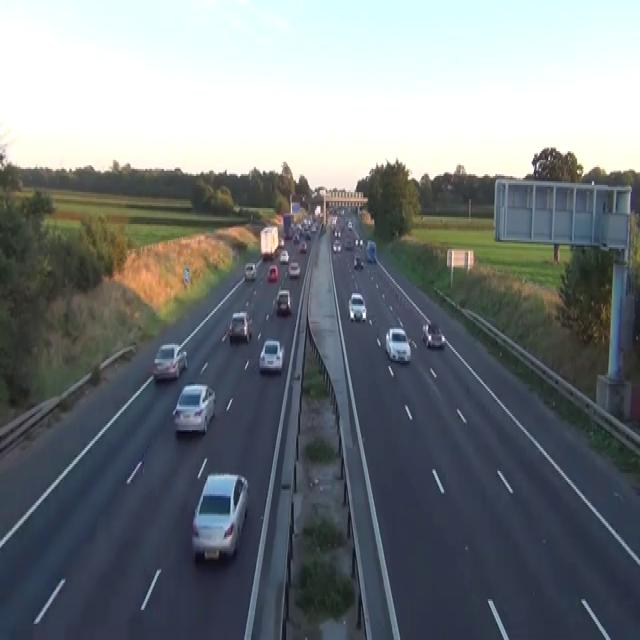Car: (191, 471, 249, 562), (172, 382, 215, 436), (152, 342, 187, 381), (258, 338, 284, 373), (385, 327, 410, 363), (228, 311, 252, 343), (422, 320, 445, 348), (348, 292, 366, 322), (276, 288, 291, 315), (244, 263, 256, 281), (288, 260, 300, 278), (267, 265, 278, 281), (279, 249, 289, 263), (354, 254, 363, 268), (332, 240, 341, 252), (263, 250, 273, 260), (344, 238, 353, 249), (298, 240, 306, 252), (355, 237, 363, 247), (292, 233, 299, 243), (310, 222, 317, 231), (347, 219, 353, 229), (278, 237, 284, 247), (331, 217, 336, 229), (333, 230, 340, 238), (304, 230, 310, 238), (359, 238, 363, 247), (355, 237, 359, 246)
Truck: (259, 226, 278, 260), (283, 212, 293, 238), (365, 240, 376, 263)
